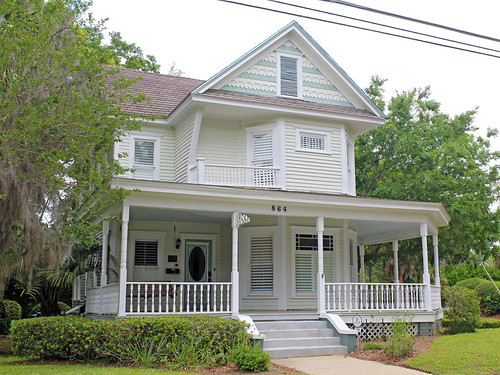medium: (68, 19, 452, 358)
